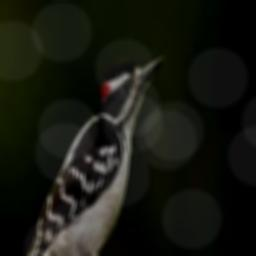Woodpecker: (15, 54, 163, 256)
